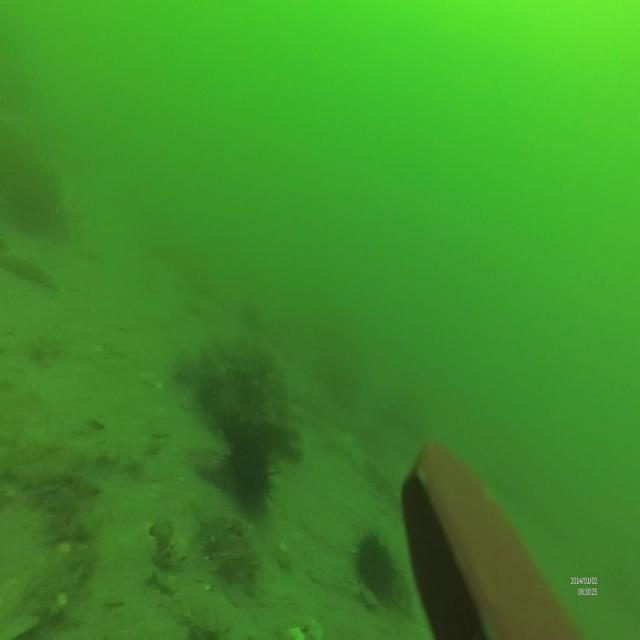echinus: (352, 527, 407, 608), (223, 423, 274, 498)
holothurian: (0, 248, 62, 292)
